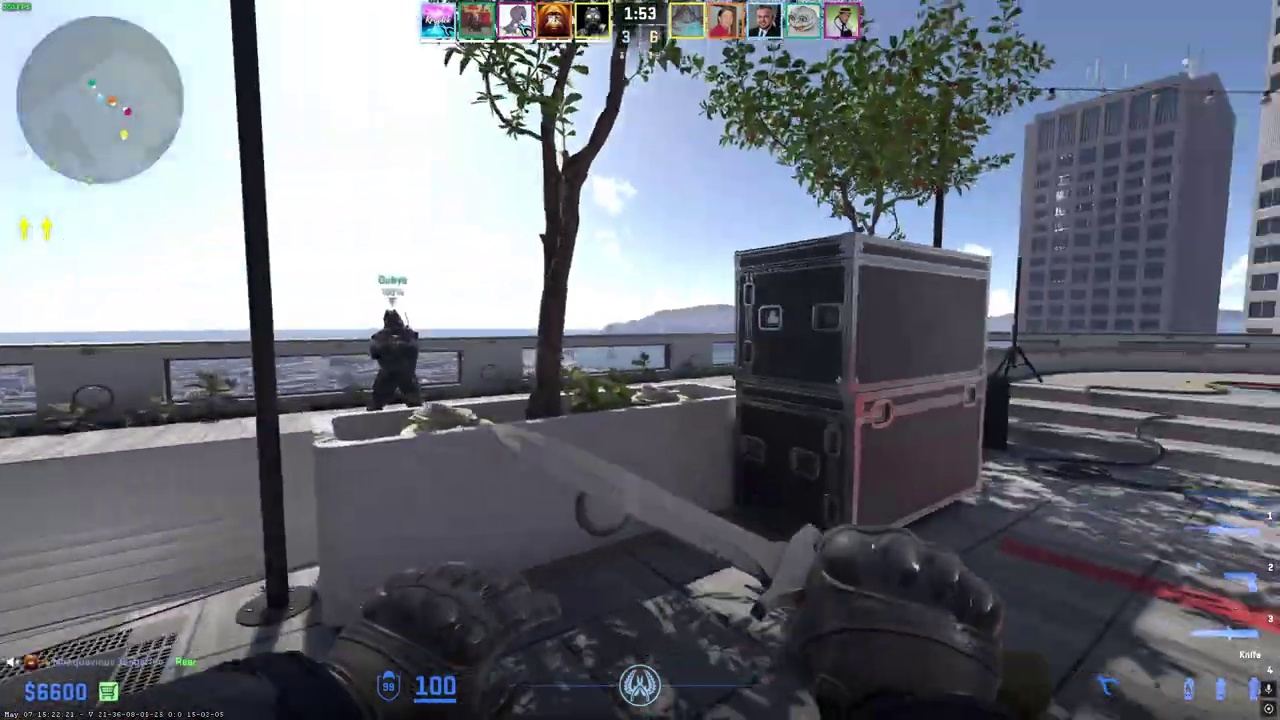CT: (367, 309, 422, 412)
